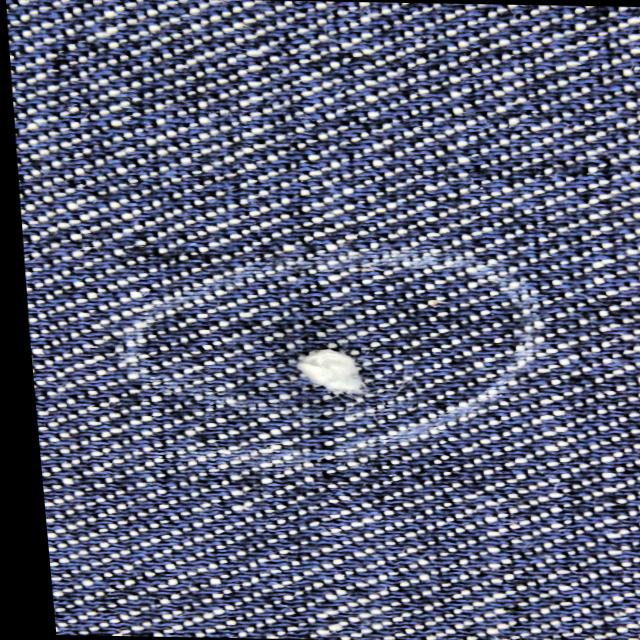Hole: (286, 348, 357, 391)
